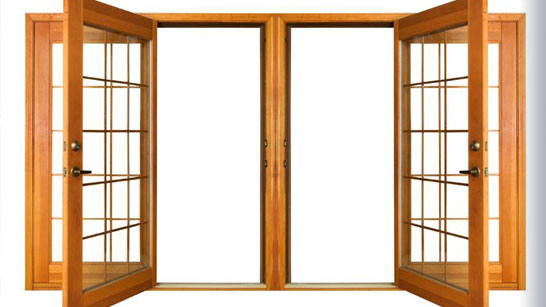windows: (35, 20, 520, 289)
